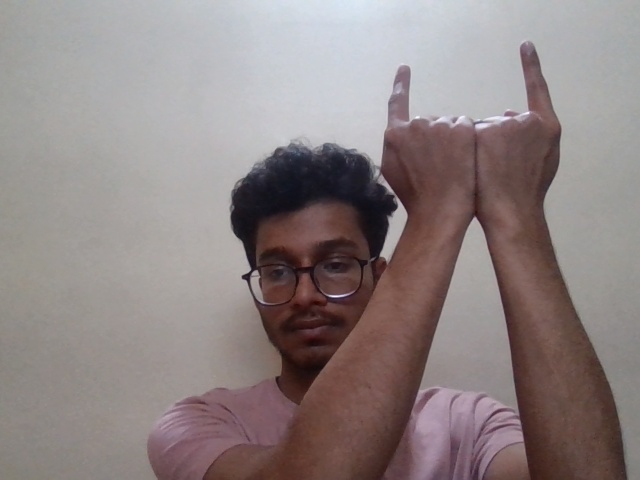when: (372, 33, 577, 218)
